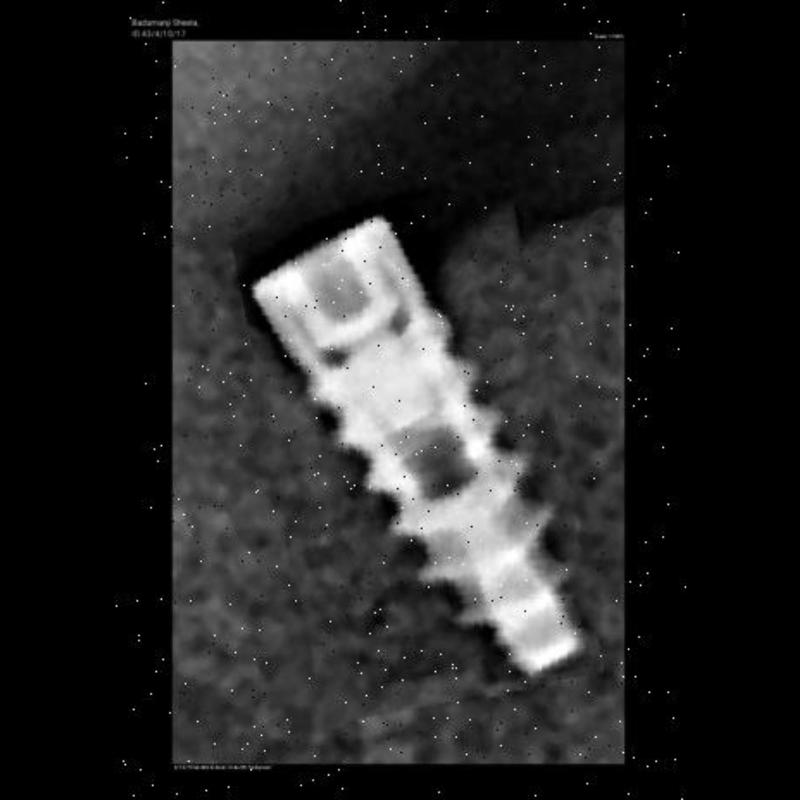NORIS: (252, 192, 580, 714)
